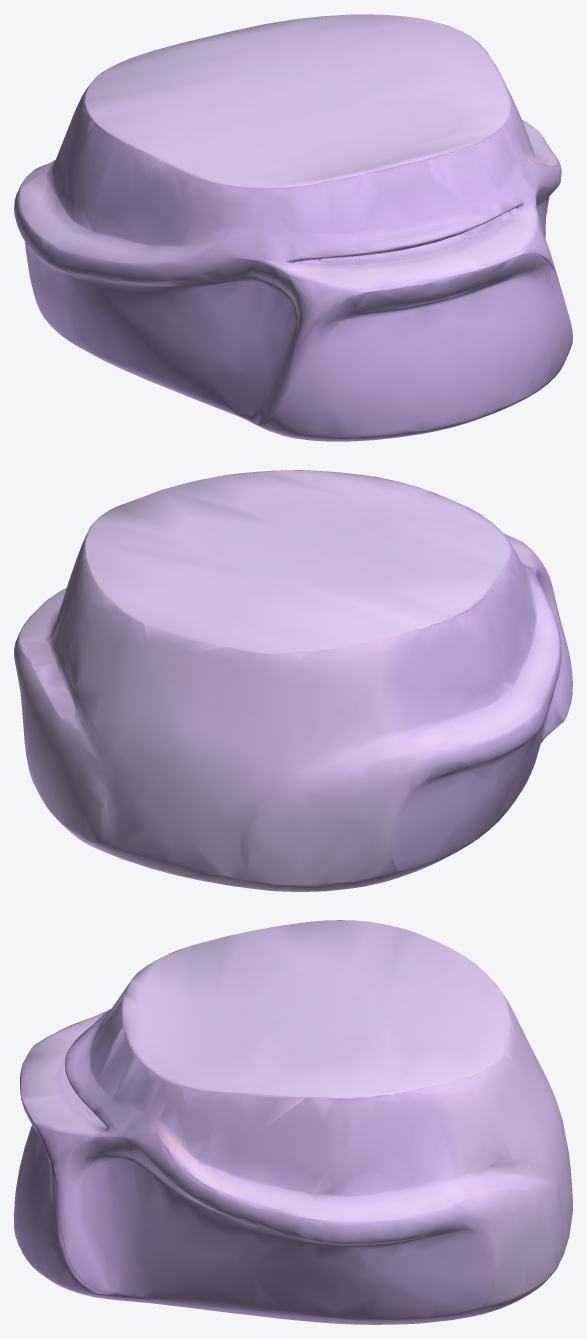
The model's file is static.glb.
3 views of the same model, one above another, from view 1: azimuth 30°, elevation 25°; view 2: azimuth 150°, elevation 25°; view 3: azimuth 270°, elevation 25° (orthographic).
Visible parts, largest first — view 1: Mesh_0; view 2: Mesh_0; view 3: Mesh_0.
Part boxes in pixels (x1,y1,x2,y2): Mesh_0: [14, 14, 572, 441]; Mesh_0: [14, 470, 572, 891]; Mesh_0: [14, 920, 572, 1324].
Size of the model in its own units: 1.89 by 0.8882 by 1.9.
1 material, 1 textured.
